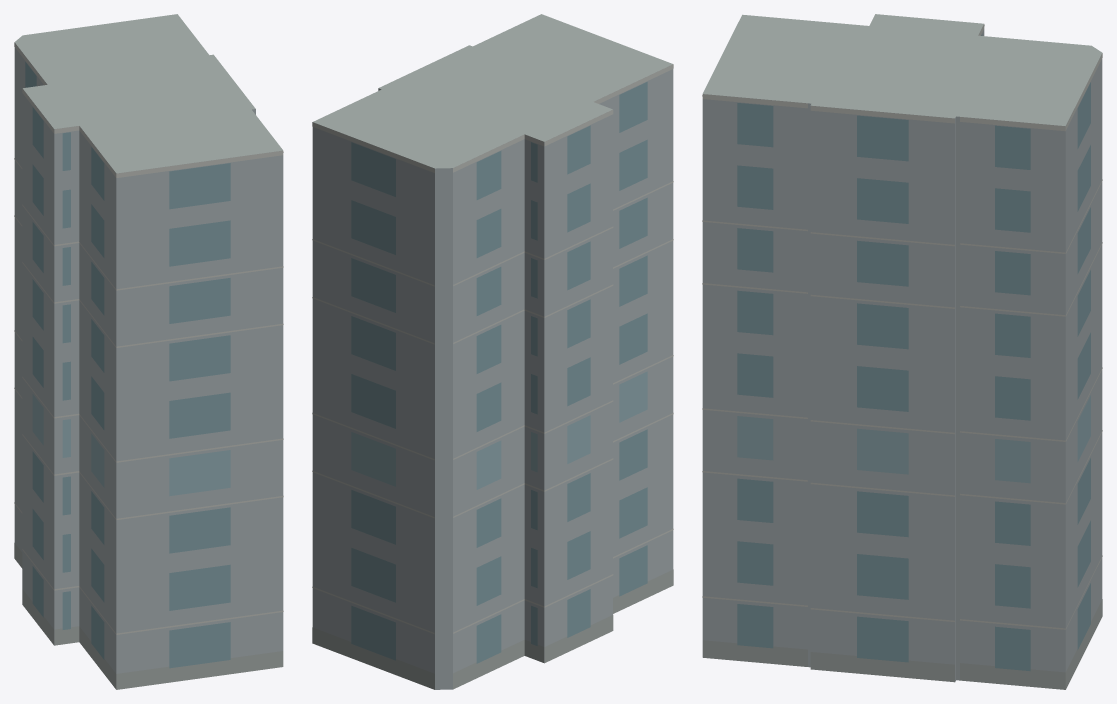
Rendered from survey-upis-32653041.glb.
The picture shows the model from 3 angles, left to right: view 1: azimuth 30°, elevation 25°; view 2: azimuth 150°, elevation 25°; view 3: azimuth 270°, elevation 25°; orthographic projection. The views are drawn at different scales.
Parts seen in each view (by area): view 1: survey-upis-32653041.tmp; view 2: survey-upis-32653041.tmp; view 3: survey-upis-32653041.tmp.
Boxes of the visible parts, box(x1,y1,x2,y2) form: survey-upis-32653041.tmp: box(14, 14, 283, 689); survey-upis-32653041.tmp: box(312, 14, 673, 689); survey-upis-32653041.tmp: box(702, 14, 1102, 689).
Bounding box in the file's own units: 11.5 × 26.9 × 17.32.
